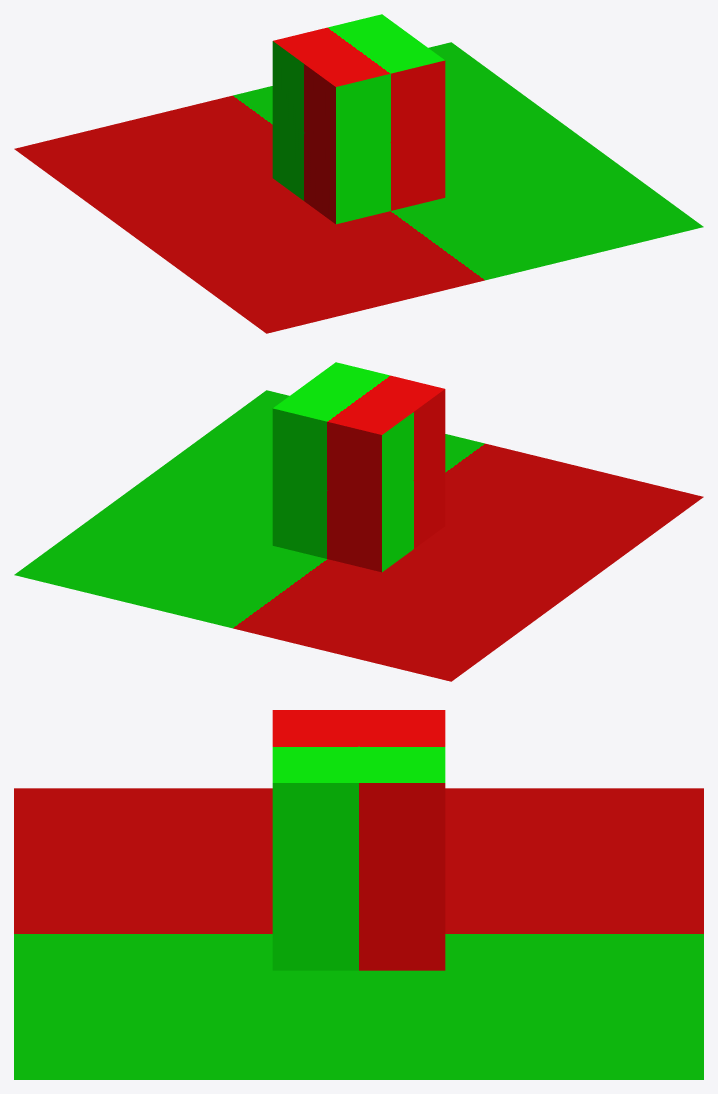
The model's file is textured_multilight.gltf.
3 views of the same model, one above another, from view 1: azimuth 30°, elevation 25°; view 2: azimuth 150°, elevation 25°; view 3: azimuth 270°, elevation 25° (orthographic). The views are drawn at different scales.
Parts seen in each view (by area): view 1: Fixture; view 2: Fixture; view 3: Fixture.
Part boxes in pixels (x1,y1,x2,y2): Fixture: [14, 14, 703, 333]; Fixture: [14, 362, 703, 681]; Fixture: [14, 710, 703, 1079].
Bounding box in the file's own units: 4 × 1.2 × 4.
Materials: 2 (2 with a texture image).
